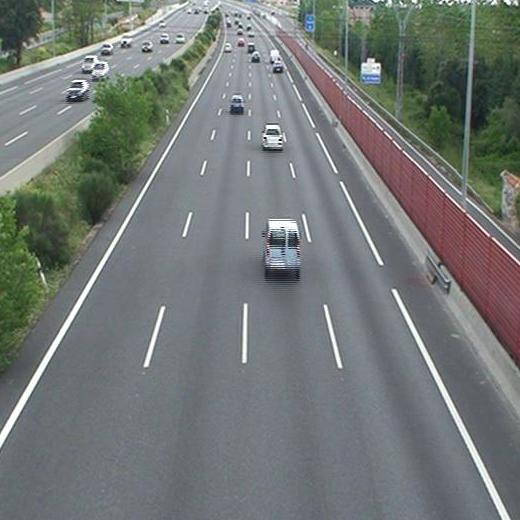car: (261, 127, 282, 148), (230, 96, 244, 113), (251, 50, 262, 60), (271, 61, 282, 71), (224, 43, 232, 53)
van: (263, 220, 301, 271)
